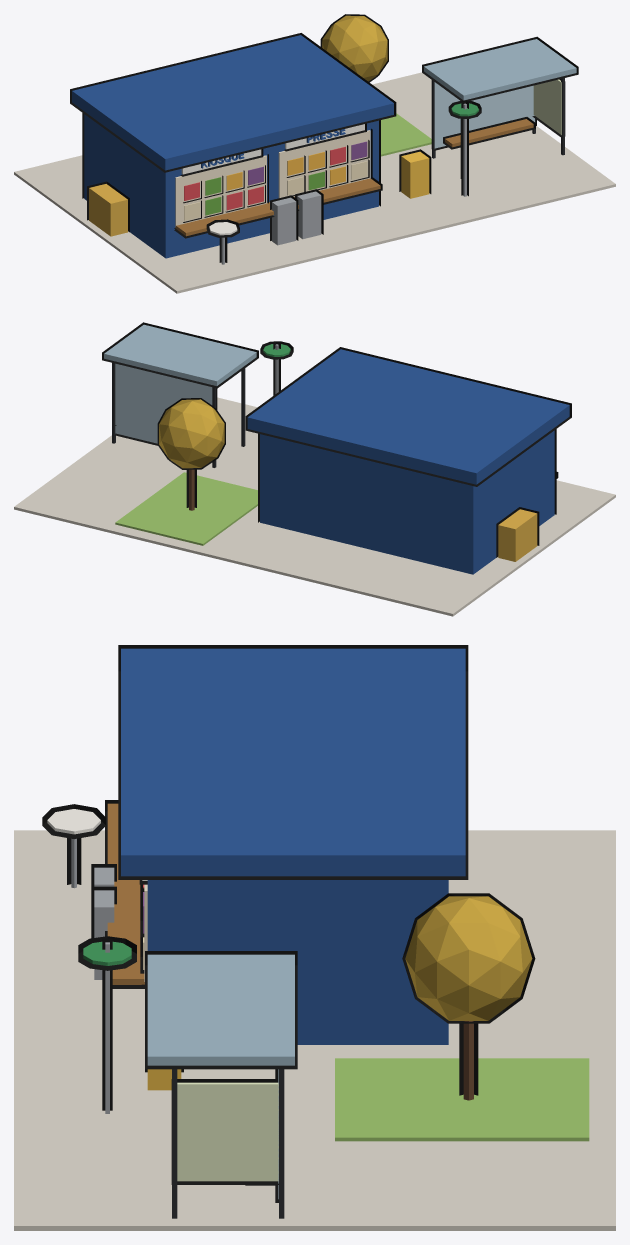
The model's file is Dukkan_cadde_bufe.fbx.
3 views of the same model, one above another, from view 1: azimuth 30°, elevation 25°; view 2: azimuth 150°, elevation 25°; view 3: azimuth 270°, elevation 25° (orthographic). The views are drawn at different scales.
Visible parts, largest first — view 1: Dukkan_cadde_bufe; view 2: Dukkan_cadde_bufe; view 3: Dukkan_cadde_bufe.
Boxes of the visible parts, bbox=[...] form: Dukkan_cadde_bufe: bbox=[14, 14, 615, 293]; Dukkan_cadde_bufe: bbox=[14, 322, 615, 616]; Dukkan_cadde_bufe: bbox=[14, 645, 615, 1230].
Bounding box in the file's own units: 14 × 3.48 × 9.
